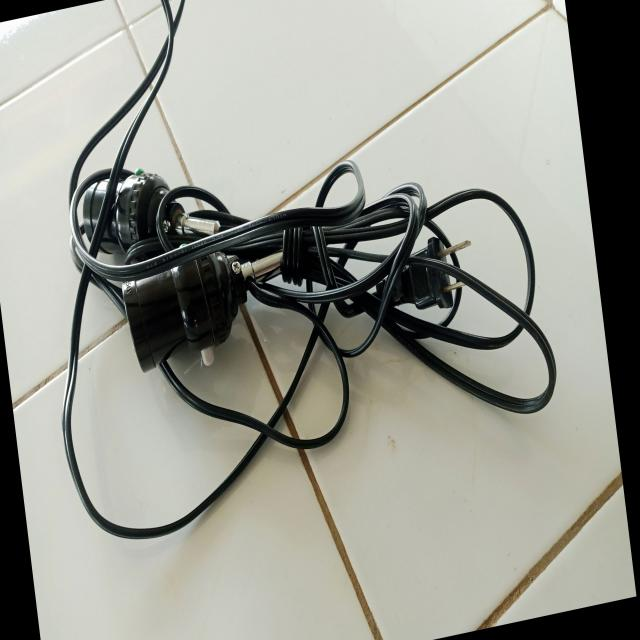Bulb Socket: (35, 75, 501, 466)
